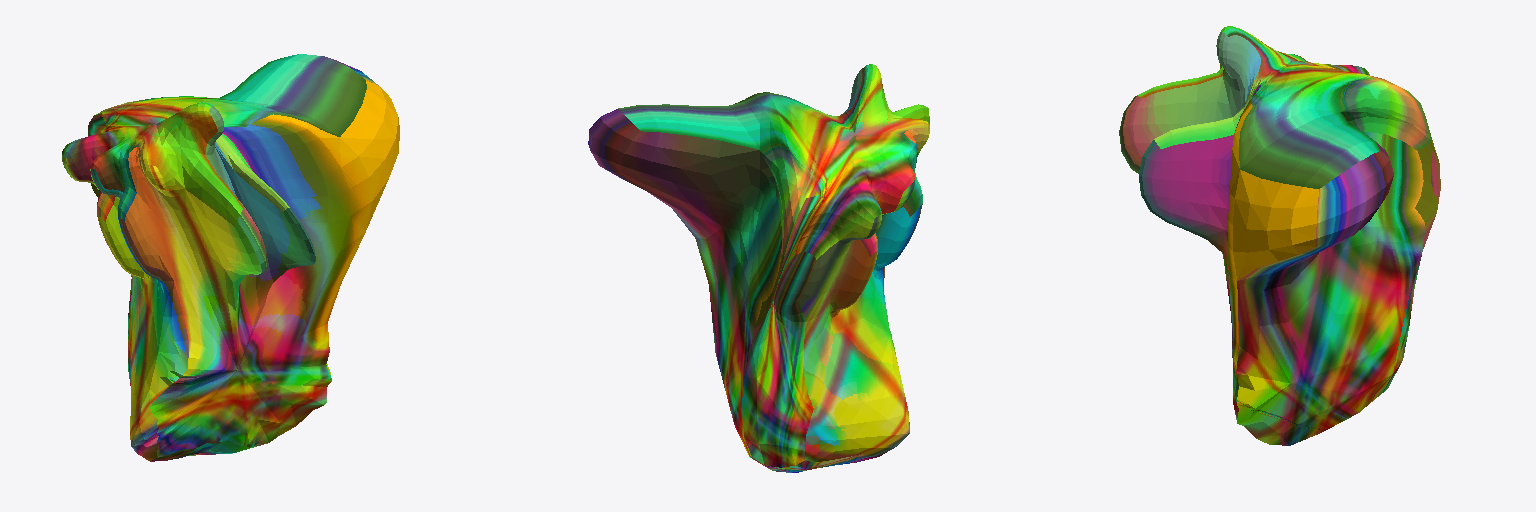
3 renders of one model, left to right at view 1: azimuth 30°, elevation 25°; view 2: azimuth 150°, elevation 25°; view 3: azimuth 270°, elevation 25°, orthographic.
Visible parts, largest first — view 1: Cube; view 2: Cube; view 3: Cube.
Part boxes in pixels (x1,y1,x2,y2): Cube: (62, 54, 399, 461); Cube: (588, 64, 929, 472); Cube: (1119, 26, 1440, 445).
Size of the model in its own units: 7.59 by 8.95 by 6.84.
Materials: 1 (1 with a texture image).